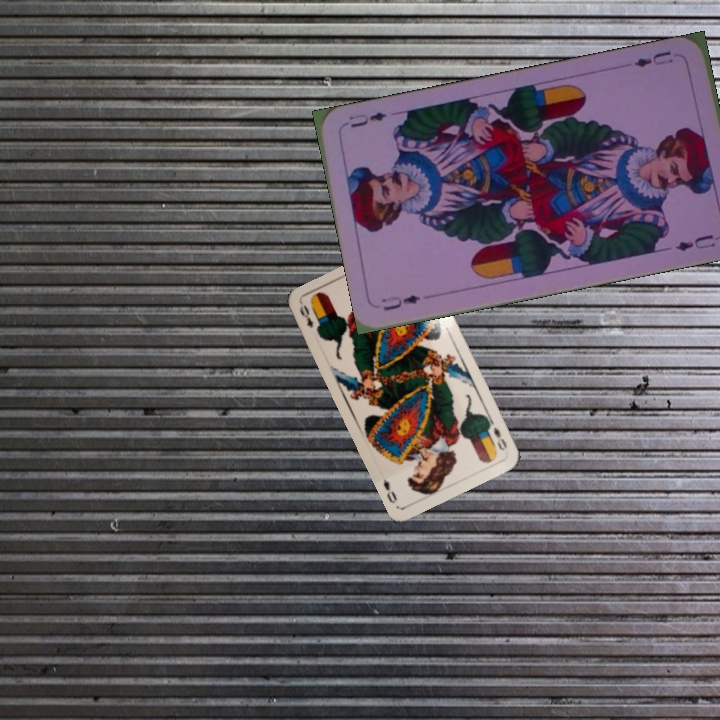EO: (484, 417, 509, 453), (295, 300, 316, 331)
EU: (378, 290, 423, 314), (629, 47, 675, 70)
